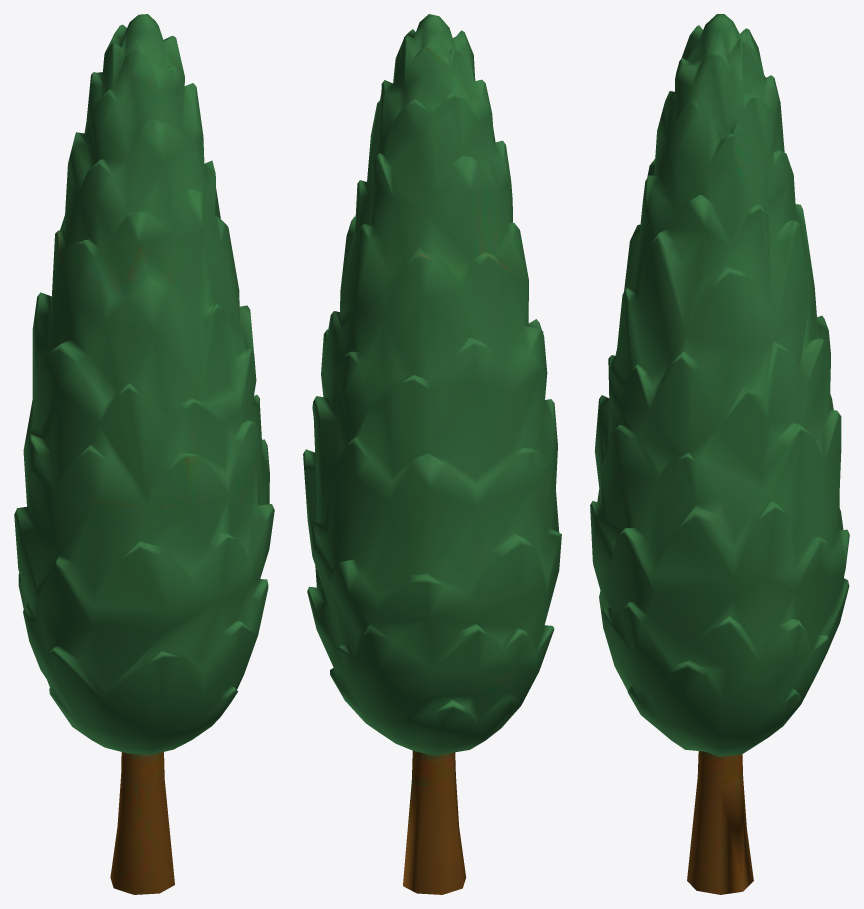
The model's file is cypress.glb.
The picture shows the model from 3 angles, left to right: view 1: azimuth 30°, elevation 25°; view 2: azimuth 150°, elevation 25°; view 3: azimuth 270°, elevation 25°; orthographic projection.
Parts seen in each view (by area): view 1: tripo_node_42980e77-99fc-40ce-a638-f52b78351c89; view 2: tripo_node_42980e77-99fc-40ce-a638-f52b78351c89; view 3: tripo_node_42980e77-99fc-40ce-a638-f52b78351c89.
Boxes of the visible parts, box(x1,y1,x2,y2) form: tripo_node_42980e77-99fc-40ce-a638-f52b78351c89: box(14, 14, 274, 894); tripo_node_42980e77-99fc-40ce-a638-f52b78351c89: box(303, 14, 561, 894); tripo_node_42980e77-99fc-40ce-a638-f52b78351c89: box(590, 14, 849, 894).
Bounding box in the file's own units: 0.2691 × 0.9985 × 0.271.
Materials: 1 (1 with a texture image).
